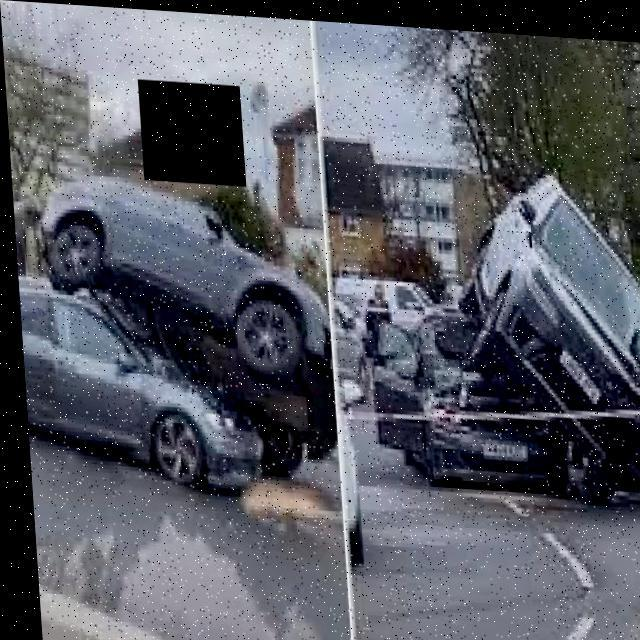multiple_accident: (380, 171, 611, 556), (60, 159, 296, 451)
